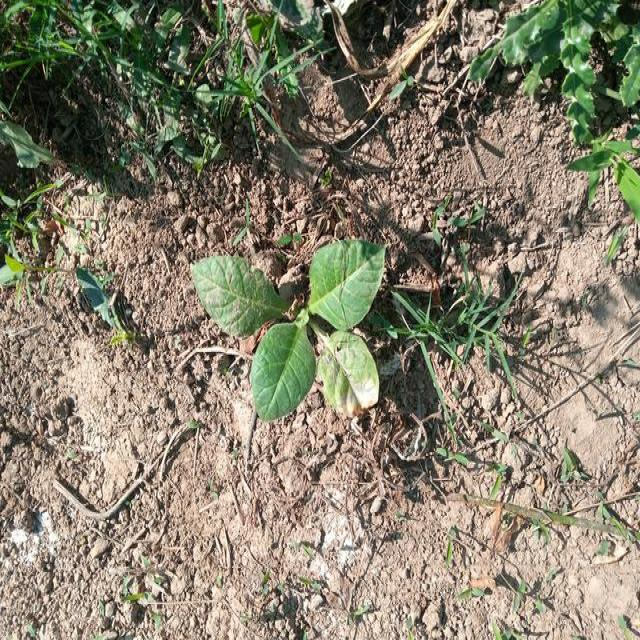crop: (190, 228, 394, 426)
